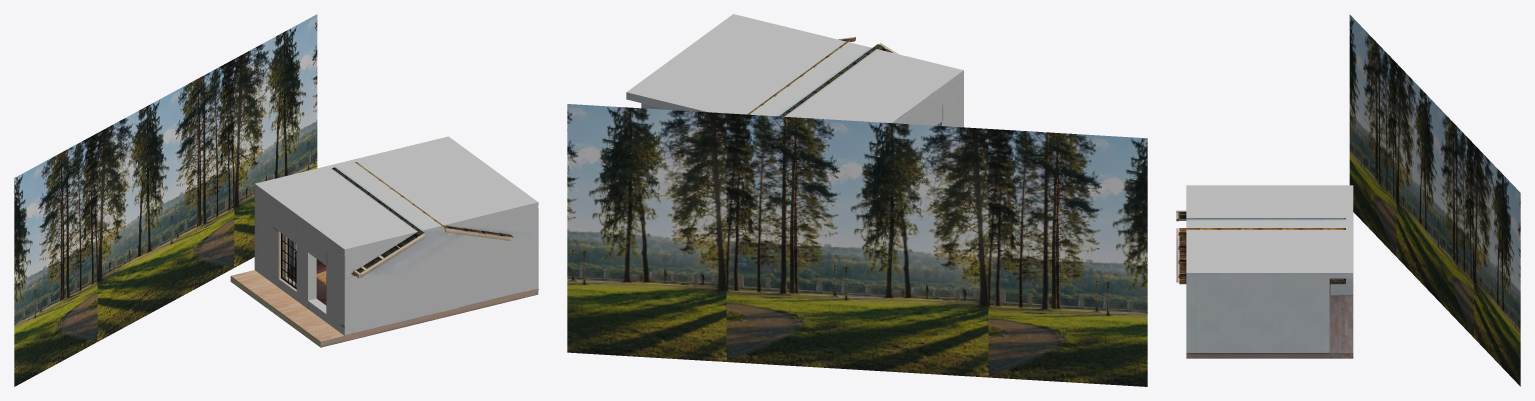
3 views of the same model, side by side, from view 1: azimuth 30°, elevation 25°; view 2: azimuth 150°, elevation 25°; view 3: azimuth 270°, elevation 25° (orthographic). The views are drawn at different scales.
Visible parts, largest first — view 1: background, walls, floor, carpet, beams, windows; view 2: background, walls, carpet; view 3: background, walls, floor, carpet.
Boxes of the visible parts, bbox=[...] form: background: bbox=[14, 14, 317, 386]; walls: bbox=[254, 136, 538, 335]; floor: bbox=[230, 259, 538, 347]; carpet: bbox=[333, 162, 513, 276]; beams: bbox=[332, 162, 510, 277]; windows: bbox=[278, 231, 296, 291]; background: bbox=[567, 104, 1147, 386]; walls: bbox=[626, 14, 963, 127]; carpet: bbox=[747, 38, 891, 116]; background: bbox=[1349, 14, 1520, 386]; walls: bbox=[1186, 185, 1353, 352]; floor: bbox=[1186, 295, 1353, 358]; carpet: bbox=[1179, 212, 1345, 284].
Size of the model in its own units: 22.57 by 10.34 by 16.65.
Materials: 19 (16 with a texture image).
